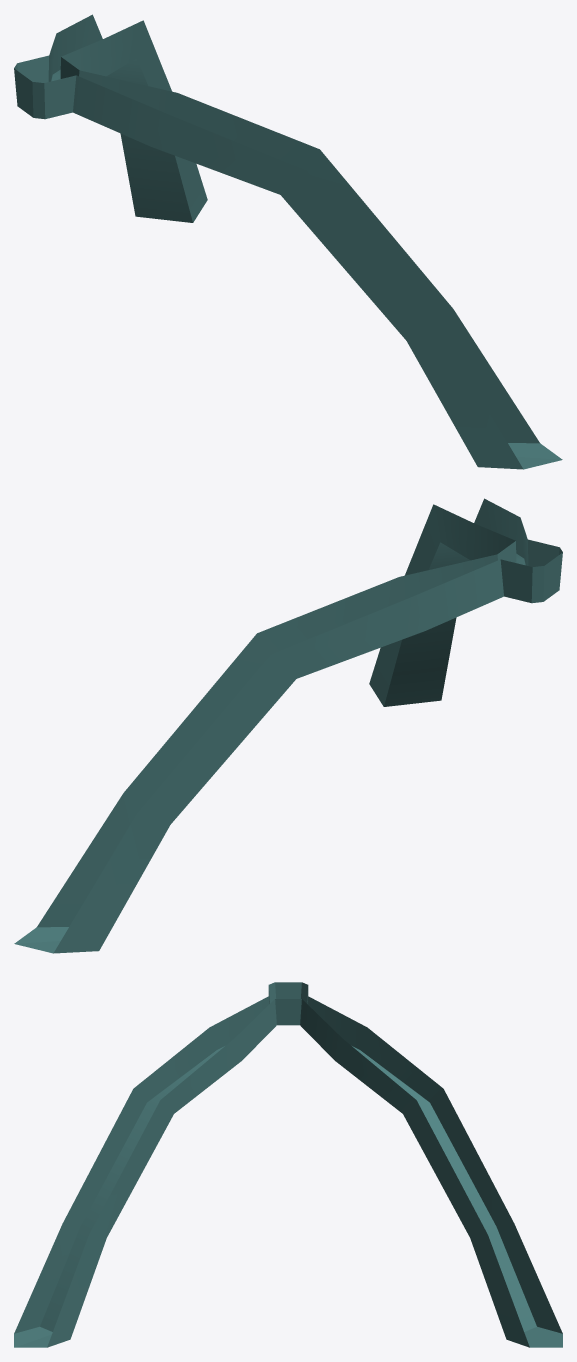
File: OpenTop_Across.fbx
3 renders of one model, top to bottom at view 1: azimuth 30°, elevation 25°; view 2: azimuth 150°, elevation 25°; view 3: azimuth 270°, elevation 25°, orthographic. The views are drawn at different scales.
Visible parts, largest first — view 1: OpenTop_Across; view 2: OpenTop_Across; view 3: OpenTop_Across.
Boxes of the visible parts, <box> form: OpenTop_Across: <box>14,14,562,469</box>; OpenTop_Across: <box>14,498,562,953</box>; OpenTop_Across: <box>14,982,562,1347</box>.
Bounding box in the file's own units: 214 × 196 × 400.
